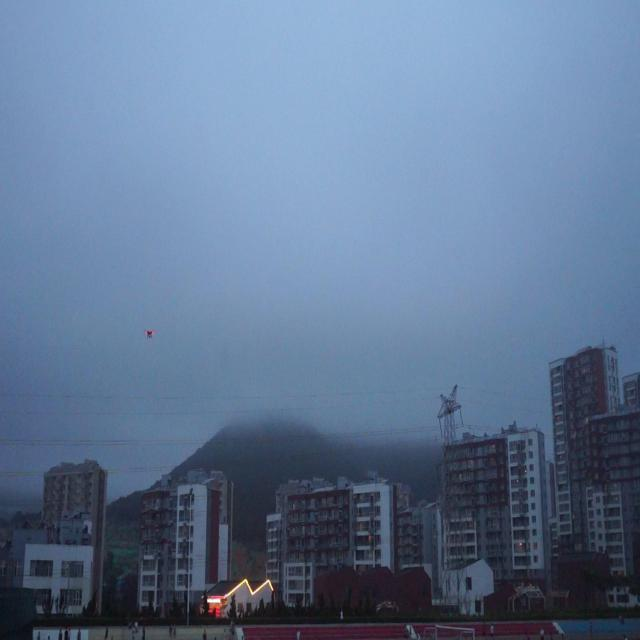drone: (142, 326, 158, 341)
